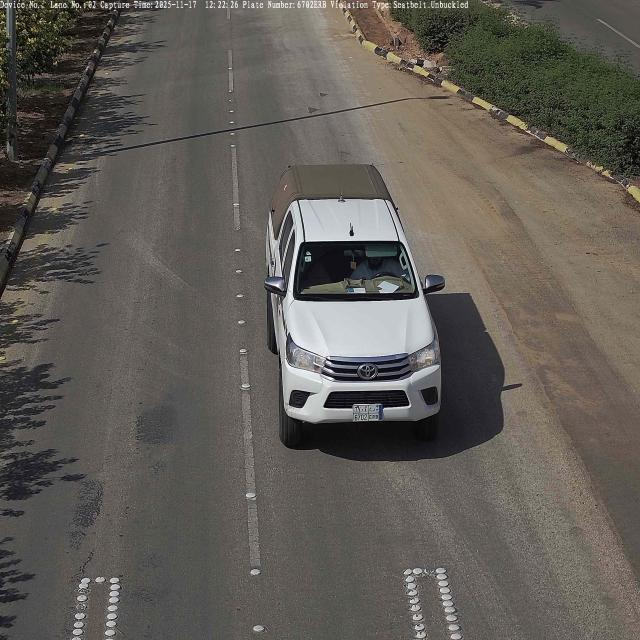person_without_seatbelt: (351, 244, 404, 282)
